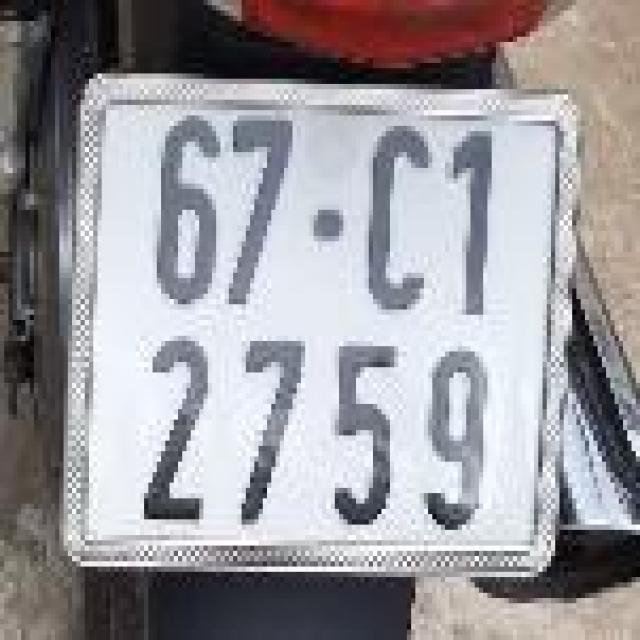1: (441, 121, 500, 325)
2: (142, 322, 218, 532)
5: (324, 330, 409, 540)
6: (146, 102, 223, 302)
7: (224, 102, 296, 312), (242, 328, 310, 538)
9: (413, 336, 494, 530)
C: (358, 105, 439, 320)
